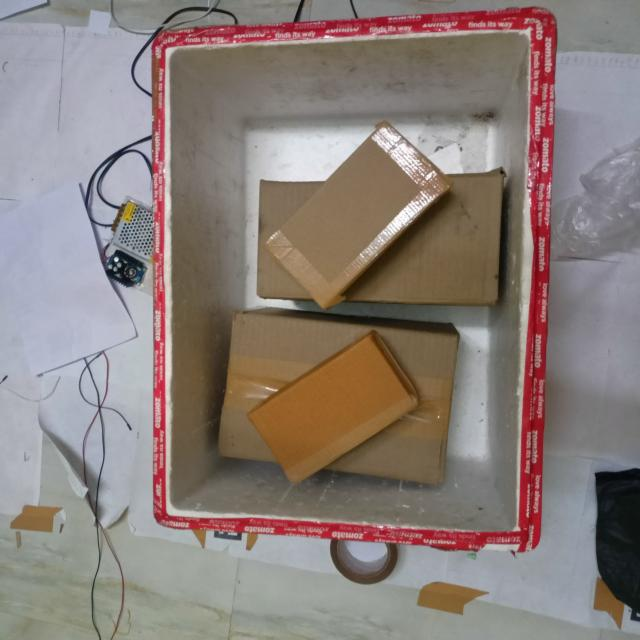box: (267, 123, 447, 306), (258, 340, 413, 483)
